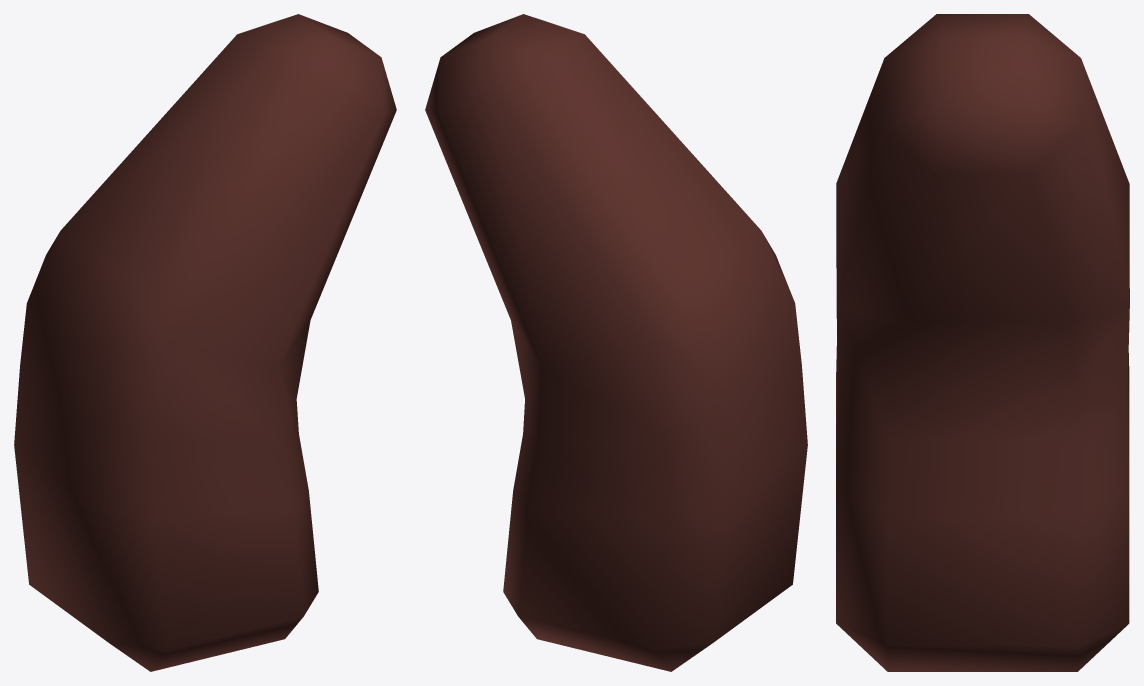
File: Pumpkin.glb
The picture shows the model from 3 angles, left to right: view 1: azimuth 30°, elevation 25°; view 2: azimuth 150°, elevation 25°; view 3: azimuth 270°, elevation 25°; orthographic projection. The views are drawn at different scales.
Visible parts, largest first — view 1: PumpkinStem; view 2: PumpkinStem; view 3: PumpkinStem.
Part boxes in pixels (x1,y1,x2,y2): PumpkinStem: (14, 14, 396, 671); PumpkinStem: (425, 14, 807, 671); PumpkinStem: (836, 14, 1129, 671).
Bounding box in the file's own units: 0.6022 × 1.01 × 0.3985.
